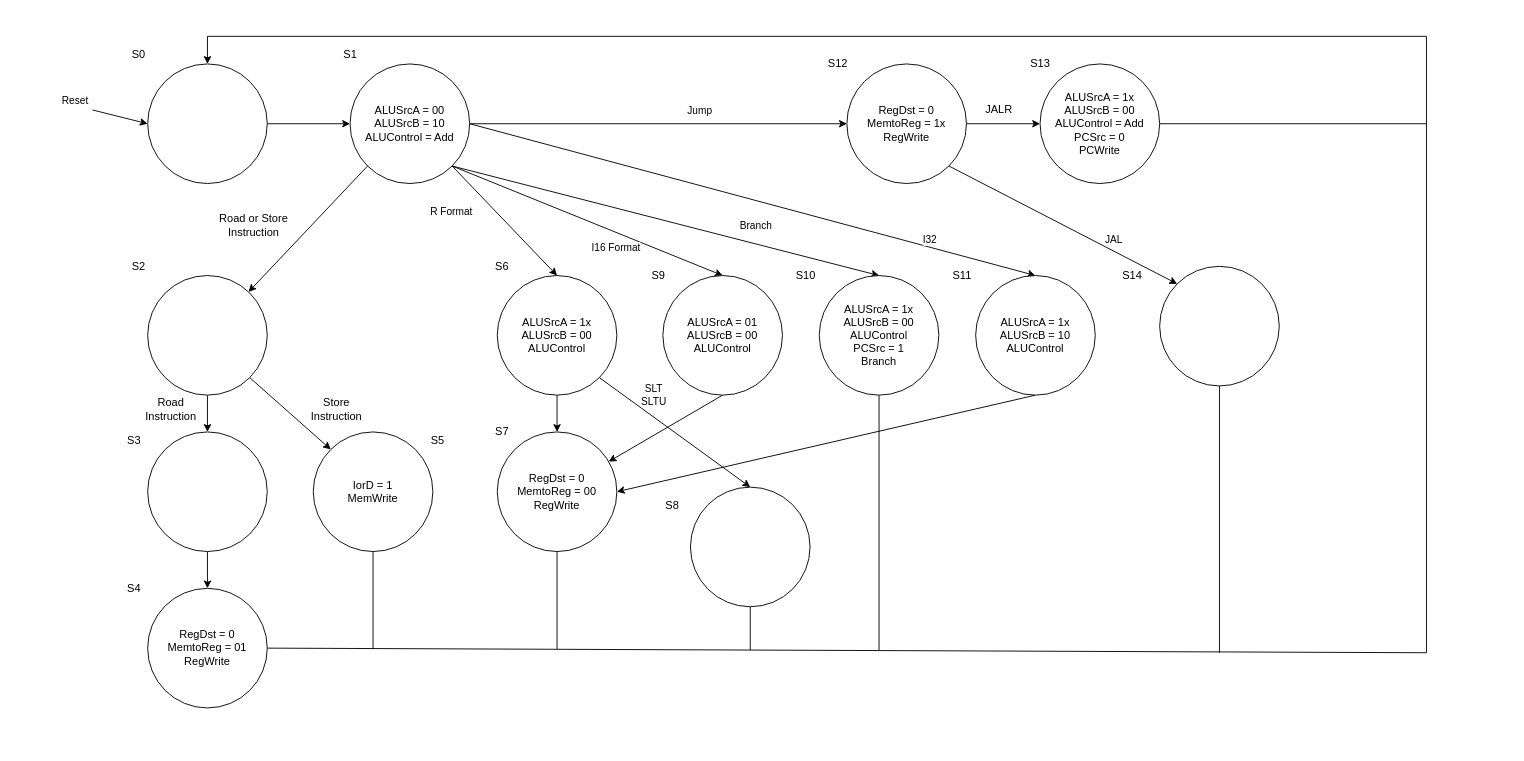
This 1524x761 diagram has some shape labels left out. Each missing label, with the centre of its shape:
"ALUSrcA = 00 ALUSrcB = 10 ALUControl = Add PCSrc = 0 PCWrite" belongs at pixel 1219 325.
"ALUSrcA = 1x ALUSrcB = 10 ALUControl = Add" belongs at pixel 207 335.
"IorD = 0 ALUSrcA = 00 ALUSrcB = 01 ALUControl = Add PCSrc = 0 PCWrite IRWrite" belongs at pixel 207 123.
"IorD = 1" belongs at pixel 207 491.
"RegDst = 1 MemtoReg = 00 RegWrite" belongs at pixel 750 546.
